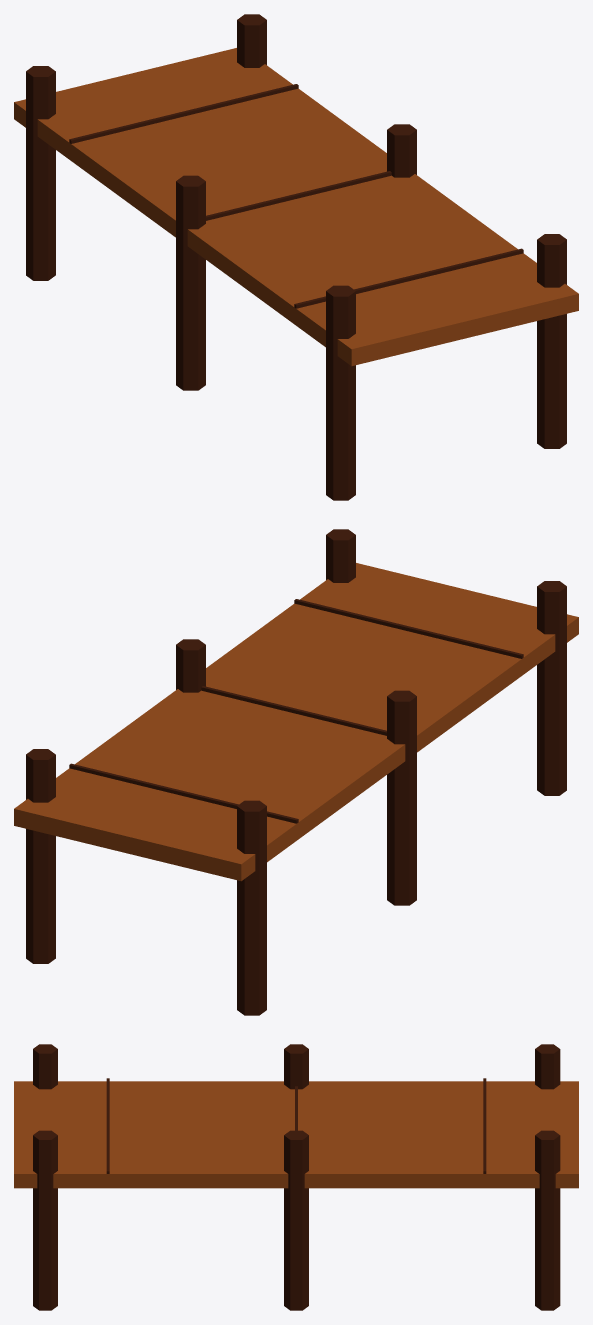
Rendered from wooden_dock.obj.
3 views of the same model, one above another, from view 1: azimuth 30°, elevation 25°; view 2: azimuth 150°, elevation 25°; view 3: azimuth 270°, elevation 25° (orthographic). The views are drawn at different scales.
Visible parts, largest first — view 1: wooden_dock; view 2: wooden_dock; view 3: wooden_dock.
Boxes of the visible parts, box(x1,y1,x2,y2) form: wooden_dock: box(14, 14, 578, 500); wooden_dock: box(14, 529, 578, 1015); wooden_dock: box(14, 1044, 578, 1310).
Size of the model in its own units: 1.44 by 1.2 by 3.6.
